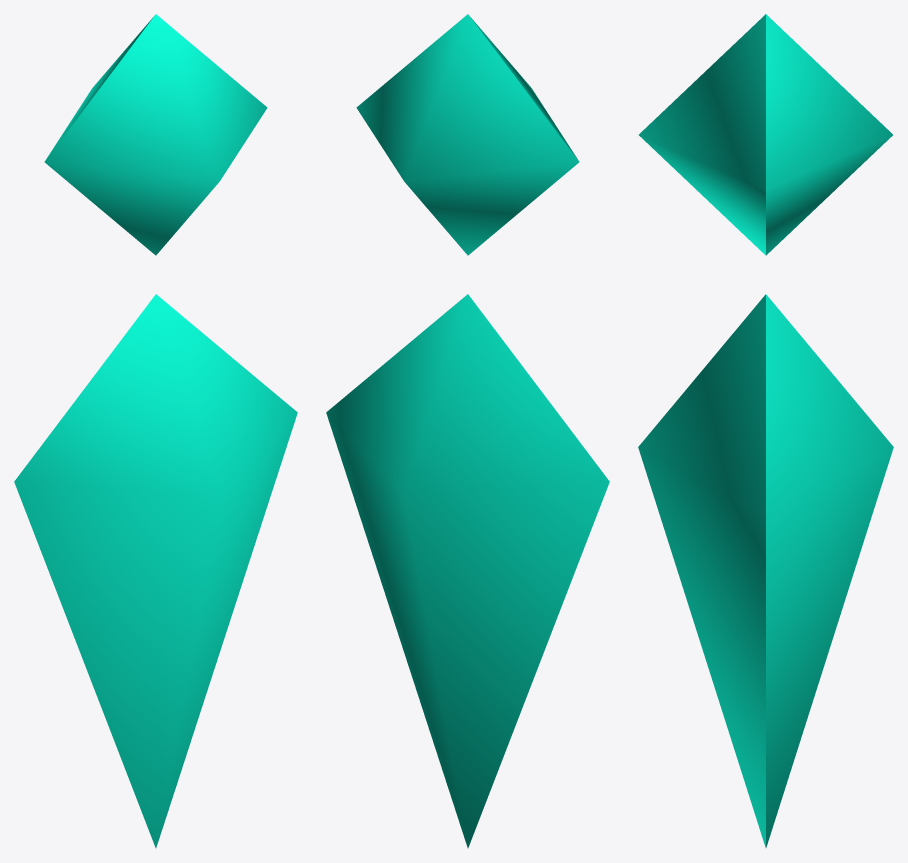
File: Diamond_TypeB.FBX
The picture shows the model from 3 angles, left to right: view 1: azimuth 30°, elevation 25°; view 2: azimuth 150°, elevation 25°; view 3: azimuth 270°, elevation 25°; orthographic projection.
Visible parts, largest first — view 1: Diamond_TypeB; view 2: Diamond_TypeB; view 3: Diamond_TypeB.
Part boxes in pixels (bbox=[...]): Diamond_TypeB: bbox=[14, 14, 297, 848]; Diamond_TypeB: bbox=[326, 14, 609, 848]; Diamond_TypeB: bbox=[638, 14, 893, 847].
Bounding box in the file's own units: 15.01 × 42.19 × 11.71.
